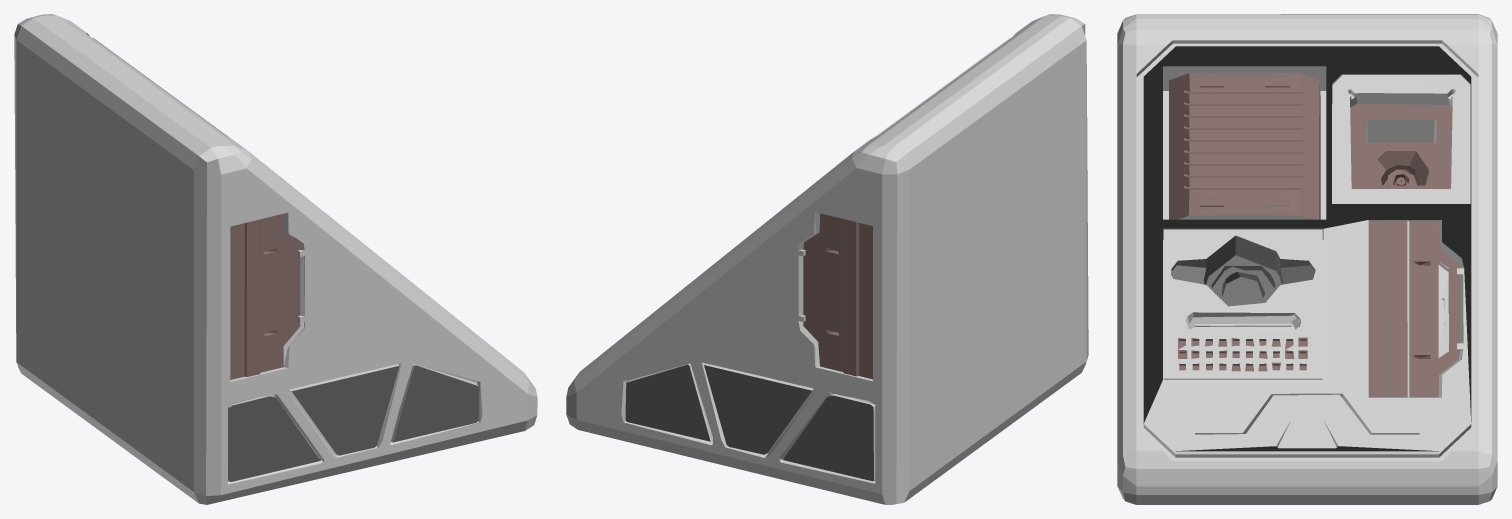
File: SmallPanel1.fbx
3 views of the same model, side by side, from view 1: azimuth 30°, elevation 25°; view 2: azimuth 150°, elevation 25°; view 3: azimuth 270°, elevation 25° (orthographic). The views are drawn at different scales.
Visible parts, largest first — view 1: Cube; view 2: Cube; view 3: Cube.
Boxes of the visible parts, x1,y1,x2,y2 form: Cube: (14, 14, 537, 504); Cube: (566, 14, 1088, 504); Cube: (1117, 14, 1497, 504).
Size of the model in its own units: 200 by 200 by 200.
